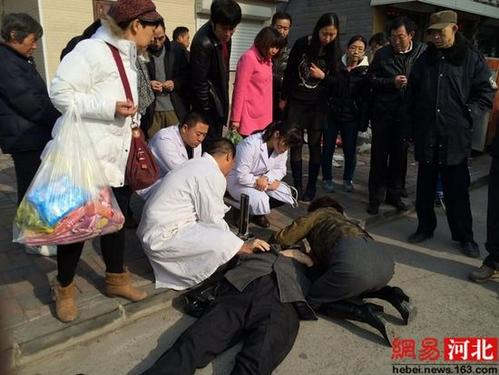fall: (74, 222, 321, 375)
